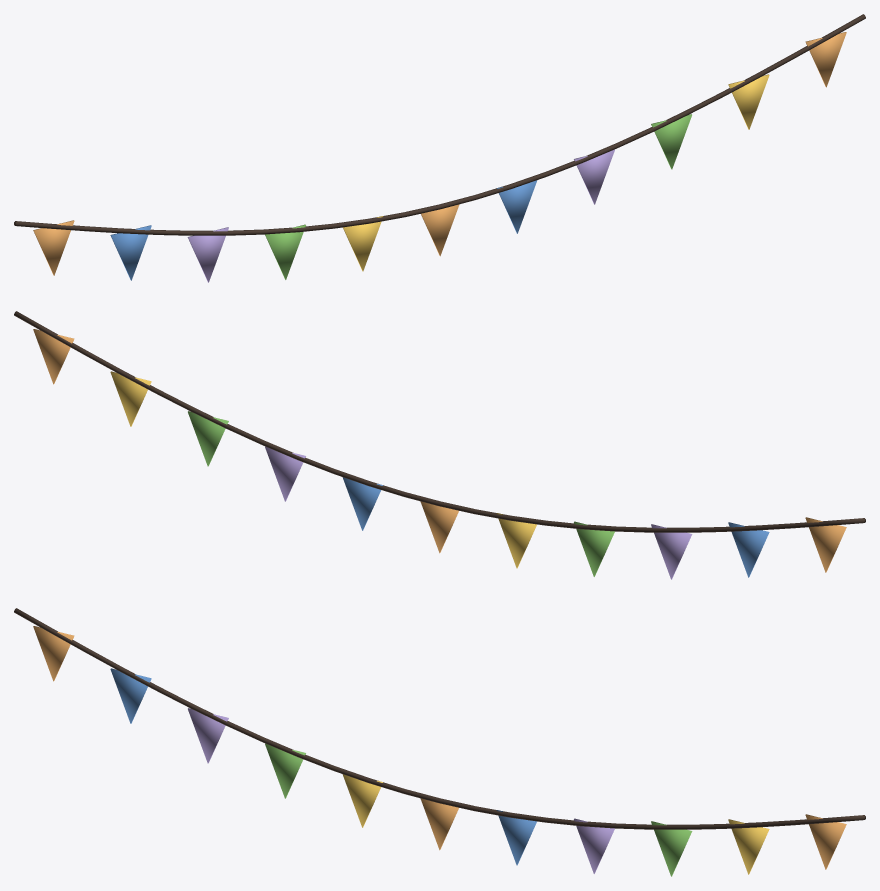
File: festival-garland.glb
The picture shows the model from 3 angles, top to bottom: view 1: azimuth 30°, elevation 25°; view 2: azimuth 150°, elevation 25°; view 3: azimuth 330°, elevation 25°; orthographic projection.
Visible parts, largest first — view 1: garland; view 2: garland; view 3: garland.
Part boxes in pixels (left/top/right/bottom): garland: left=14, top=14, right=865, bottom=282; garland: left=14, top=311, right=865, bottom=579; garland: left=14, top=608, right=865, bottom=876.
Size of the model in its own units: 4.61 by 0.7149 by 0.024.
